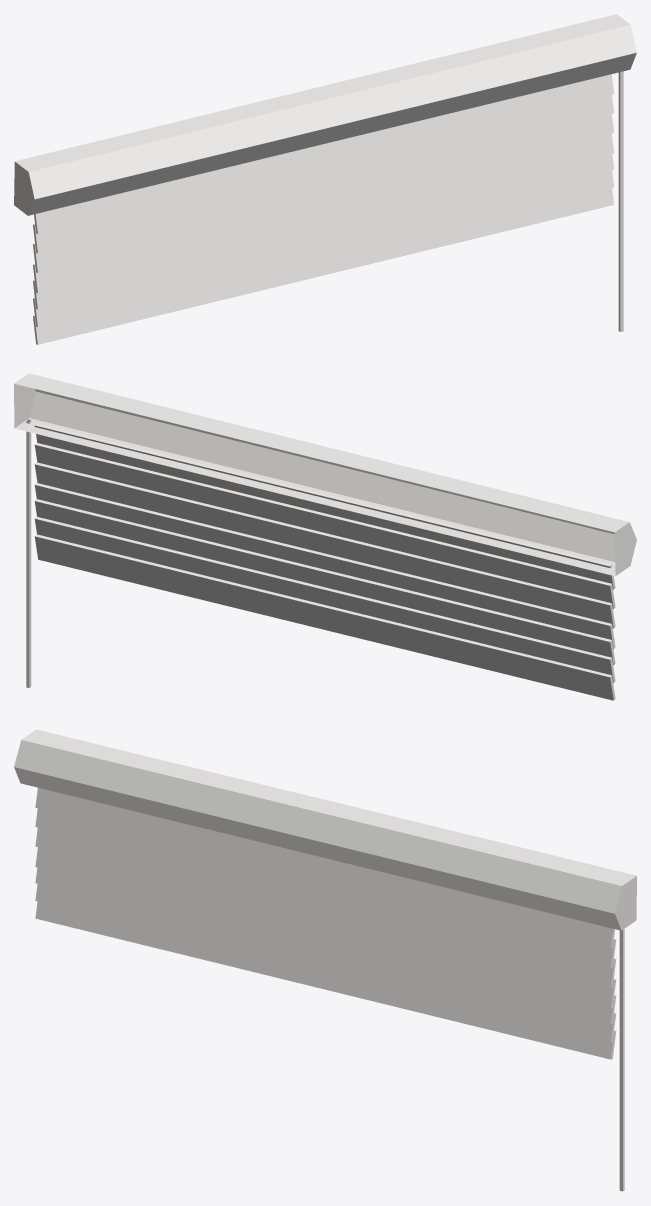
File: Blinds_1.fbx
The picture shows the model from 3 angles, top to bottom: view 1: azimuth 30°, elevation 25°; view 2: azimuth 150°, elevation 25°; view 3: azimuth 330°, elevation 25°; orthographic projection.
Visible parts, largest first — view 1: Blinds_1; view 2: Blinds_1; view 3: Blinds_1.
Boxes of the visible parts, x1,y1,x2,y2 form: Blinds_1: (14,14,636,344); Blinds_1: (14,373,636,700); Blinds_1: (14,729,636,1191).
Bounding box in the file's own units: 232 × 14.65 × 113.
